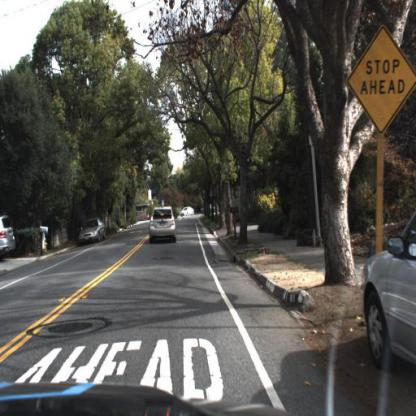car: (361, 211, 416, 383), (150, 205, 180, 245), (79, 217, 108, 246), (1, 212, 17, 263), (181, 204, 197, 222)
